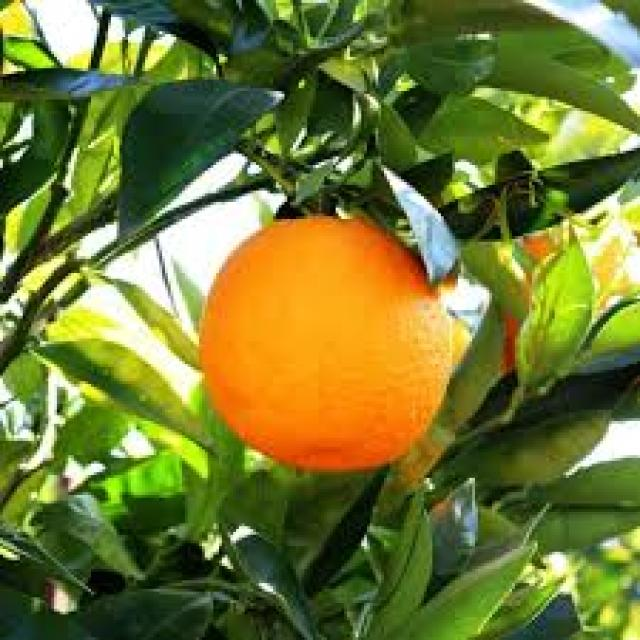orange: (203, 213, 455, 473)
